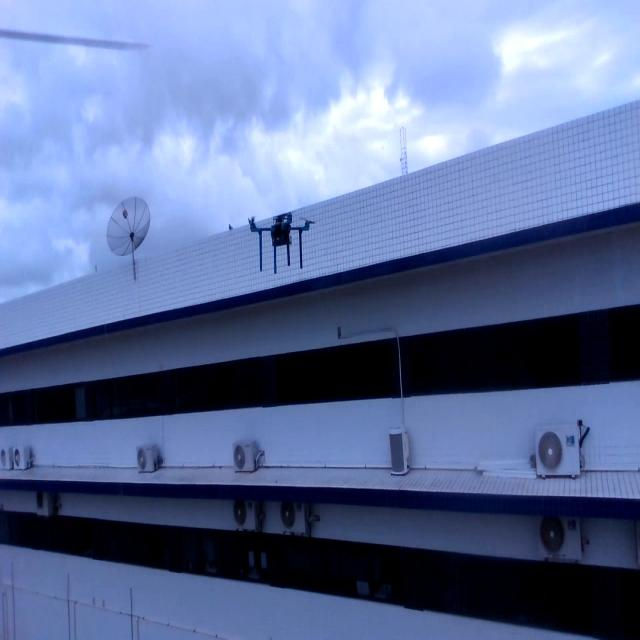-uav-: (244, 208, 318, 278)
